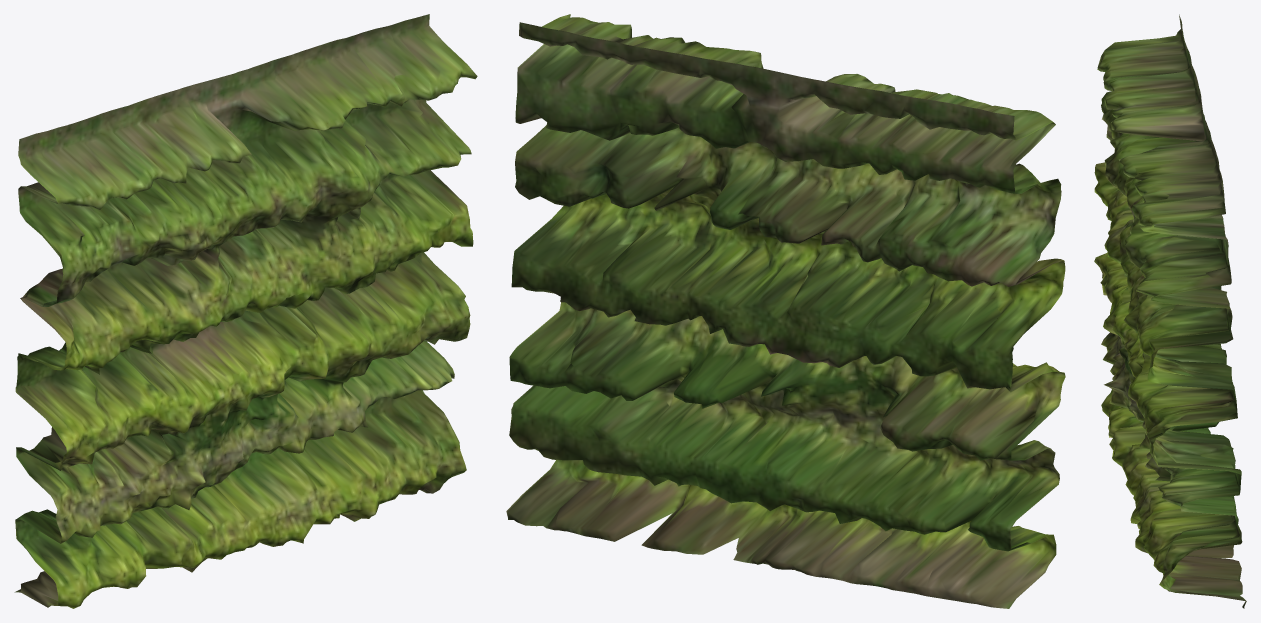
The model's file is map_50_60.obj.
The picture shows the model from 3 angles, left to right: view 1: azimuth 30°, elevation 25°; view 2: azimuth 150°, elevation 25°; view 3: azimuth 270°, elevation 25°; orthographic projection. The views are drawn at different scales.
Bounding box in the file's own units: 10 × 10 × 3.41.
Materials: 1 (1 with a texture image).
